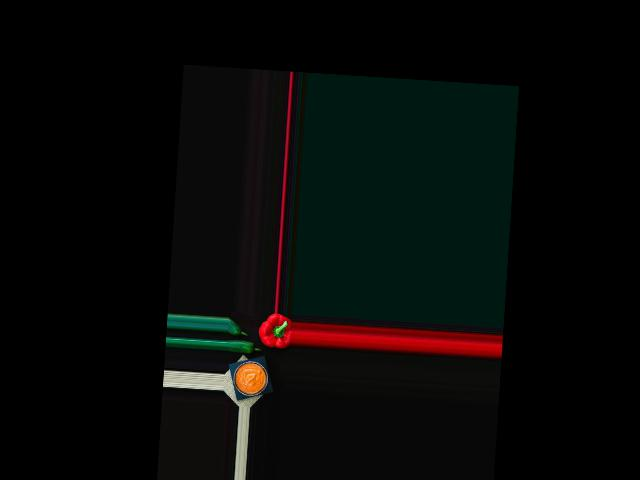bell_pepper: (258, 313, 291, 349)
